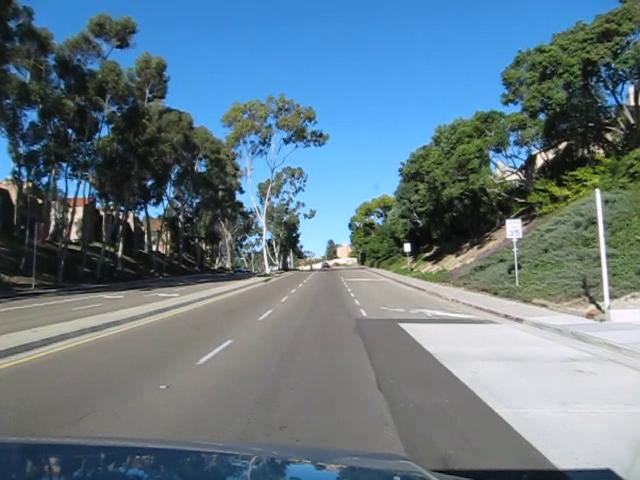speedLimit35: (504, 217, 522, 239)
